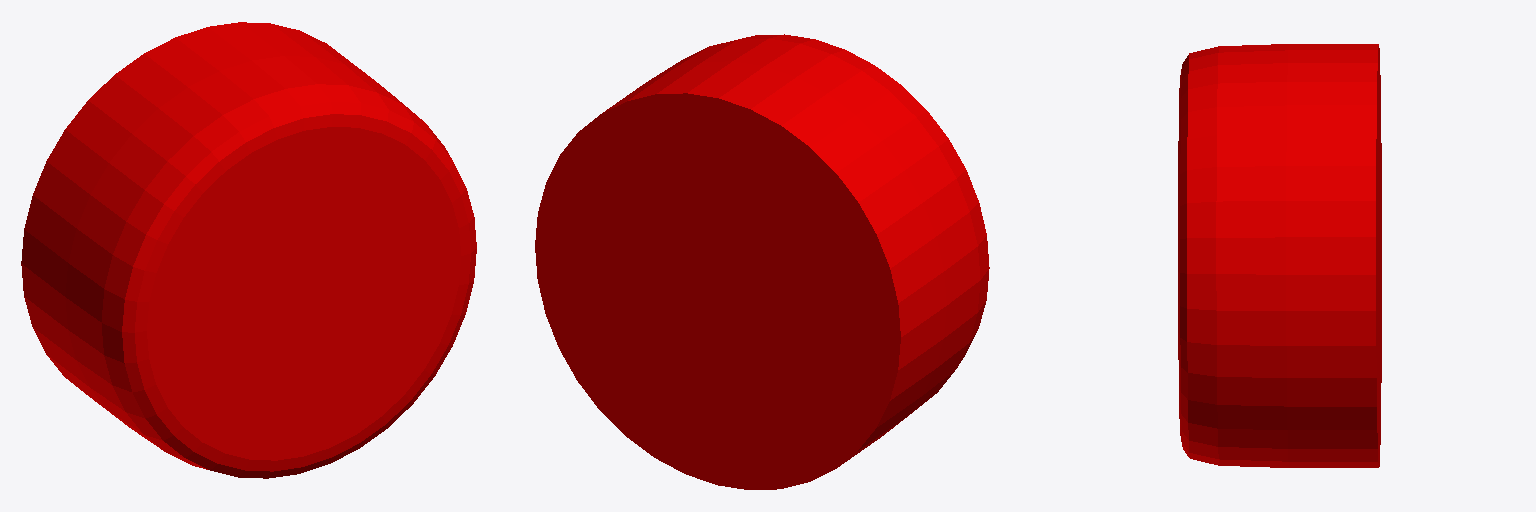
The model's file is Events-Btn-Distance.obj.
3 renders of one model, left to right at view 1: azimuth 30°, elevation 25°; view 2: azimuth 150°, elevation 25°; view 3: azimuth 270°, elevation 25°, orthographic.
Parts seen in each view (by area): view 1: Events-Btn-Distance_Bouton.010; view 2: Events-Btn-Distance_Bouton.010; view 3: Events-Btn-Distance_Bouton.010.
Boxes of the visible parts, x1=… form: Events-Btn-Distance_Bouton.010: x1=21, y1=22, x2=476, y2=478; Events-Btn-Distance_Bouton.010: x1=535, y1=34, x2=989, y2=489; Events-Btn-Distance_Bouton.010: x1=1178, y1=44, x2=1381, y2=467.
Bounding box in the file's own units: 0.1299 × 0.1297 × 0.0621.